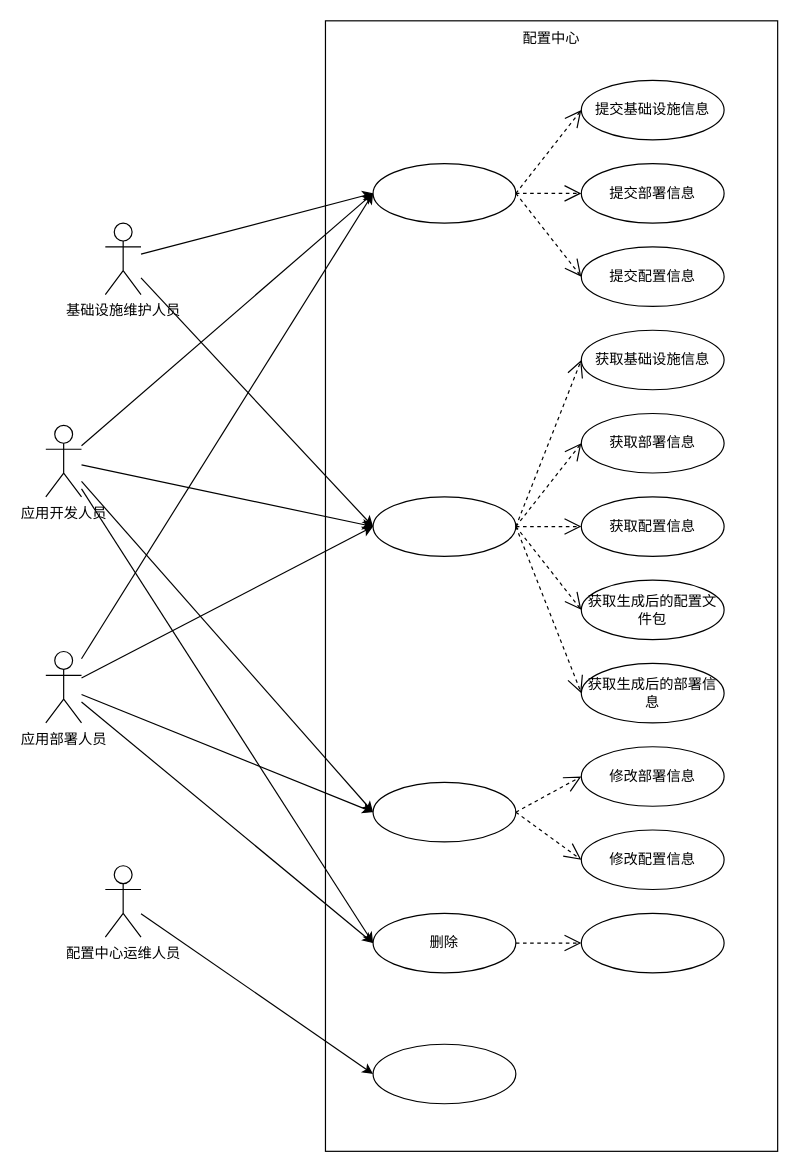
The diagram is 798 pixels wide and 1172 high, and some of its shapes have lost their labels. Each missing label, with the centre of its shape:
修改: point 444,811
删除用户名下缓存的修改: point 652,942
启停配置中心: point 444,1073
提交: point 444,192
获取: point 444,526
